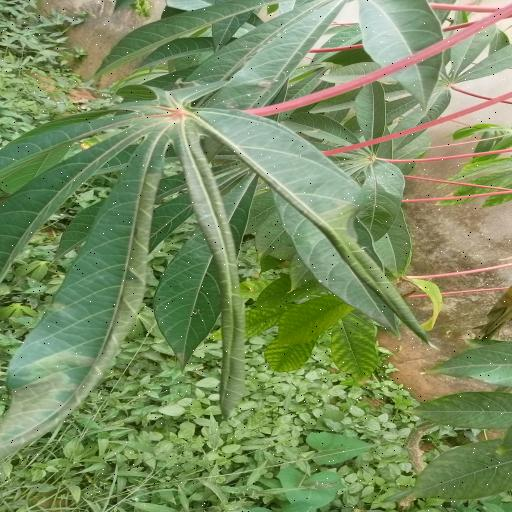Cassava_Root_Rot: (12, 83, 427, 456)
